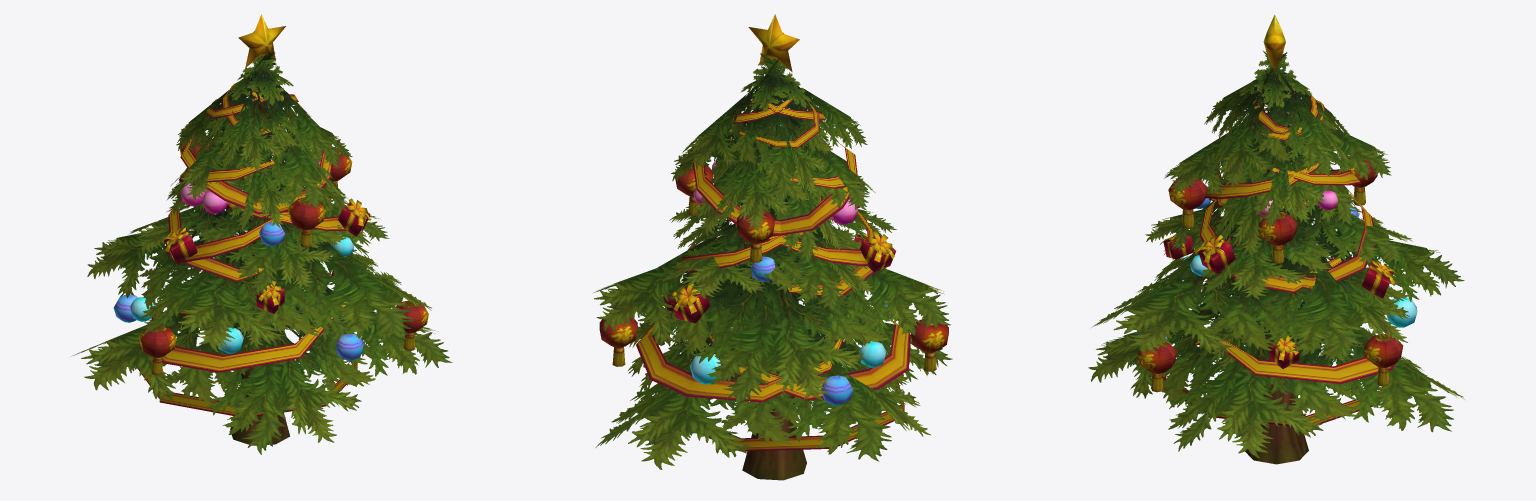
Rendered from Jr_shengdanshu01_55_48_0512out.fbx.
3 views of the same model, side by side, from view 1: azimuth 30°, elevation 25°; view 2: azimuth 150°, elevation 25°; view 3: azimuth 270°, elevation 25° (orthographic). The views are drawn at different scales.
Parts seen in each view (by area): view 1: 0000_Jr_shengdanshu01, 0001_Jr_shengdanshu01; view 2: 0000_Jr_shengdanshu01, 0001_Jr_shengdanshu01; view 3: 0000_Jr_shengdanshu01, 0001_Jr_shengdanshu01.
Boxes of the visible parts, left/top/right/bottom form: 0000_Jr_shengdanshu01: left=71, top=51, right=452, bottom=454; 0001_Jr_shengdanshu01: left=113, top=14, right=428, bottom=445; 0000_Jr_shengdanshu01: left=593, top=53, right=952, bottom=469; 0001_Jr_shengdanshu01: left=599, top=14, right=948, bottom=480; 0000_Jr_shengdanshu01: left=1088, top=51, right=1464, bottom=457; 0001_Jr_shengdanshu01: left=1137, top=14, right=1417, bottom=464.
Bounding box in the file's own units: 4.54 × 4.48 × 4.54.
